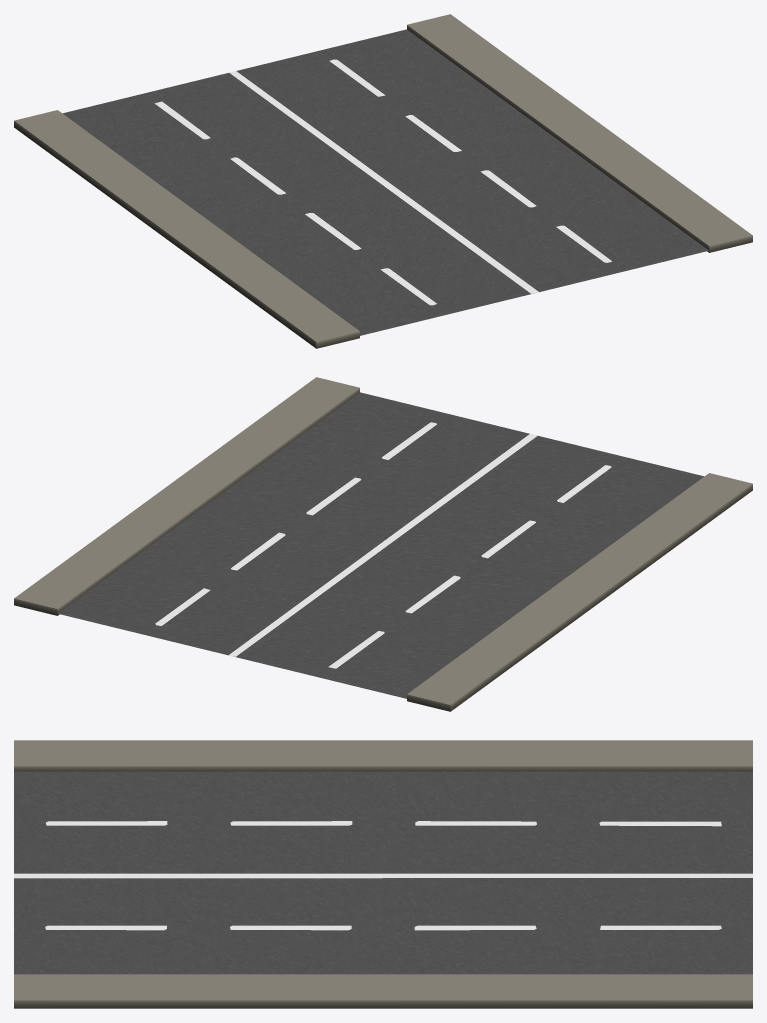
The model's file is Road15.fbx.
3 renders of one model, top to bottom at view 1: azimuth 30°, elevation 25°; view 2: azimuth 150°, elevation 25°; view 3: azimuth 270°, elevation 25°, orthographic. The views are drawn at different scales.
Parts seen in each view (by area): view 1: Road_1O; view 2: Road_1O; view 3: Road_1O.
Part boxes in pixels (box(x1,y1,x2,y2)): Road_1O: box(14, 14, 752, 348); Road_1O: box(14, 377, 752, 711); Road_1O: box(14, 740, 752, 1008).
Size of the model in its own units: 37372 by 561 by 44847.
